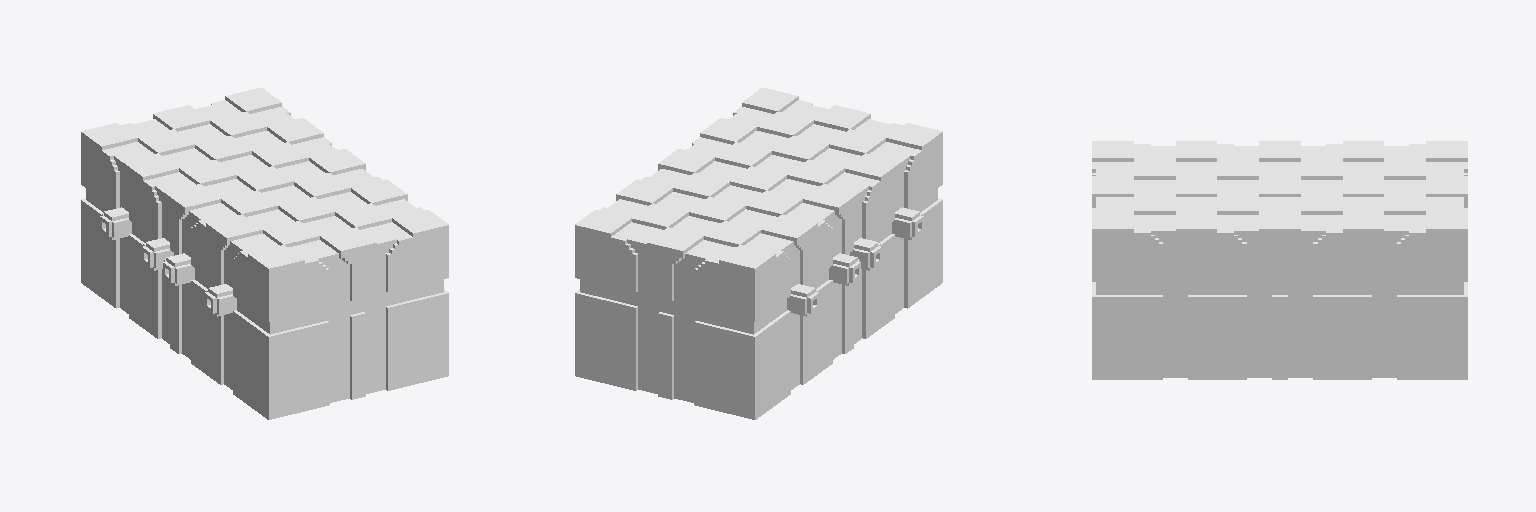
Rendered from RedBoostBox.obj.
3 renders of one model, left to right at view 1: azimuth 30°, elevation 25°; view 2: azimuth 150°, elevation 25°; view 3: azimuth 270°, elevation 25°, orthographic.
Bounding box in the file's own units: 55 × 40 × 90.